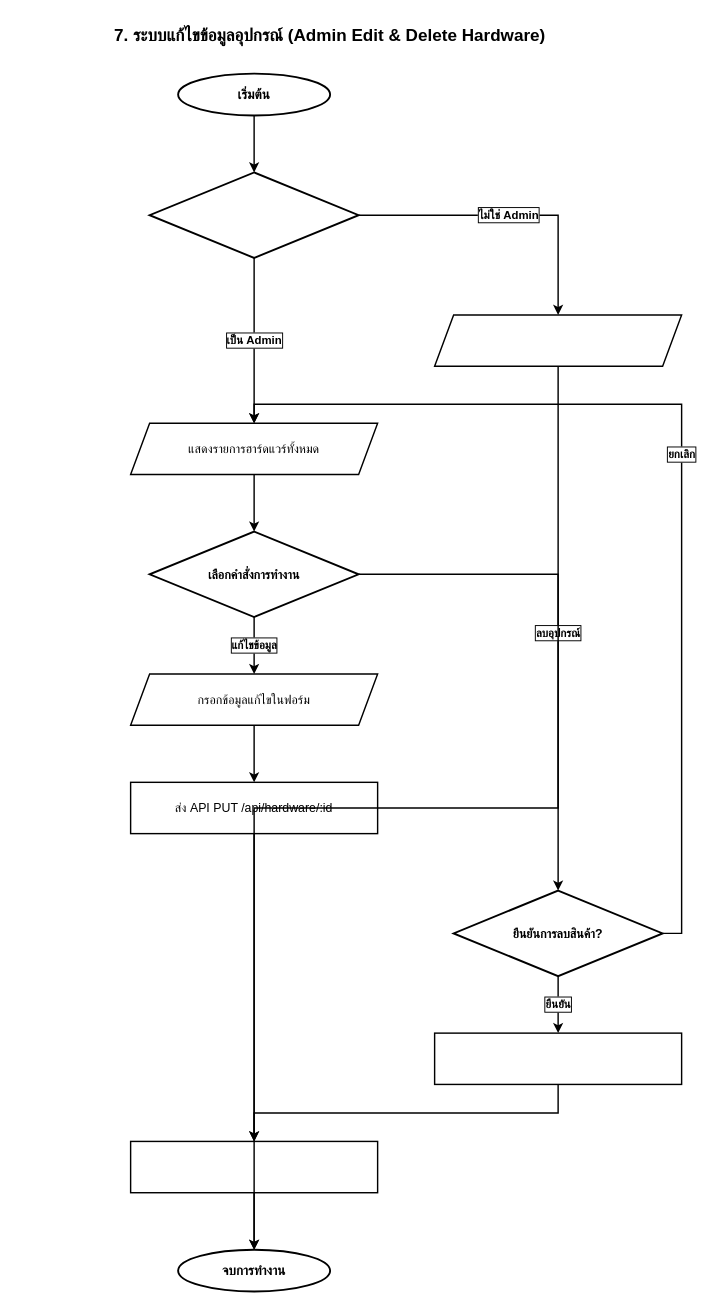
Image size: 712x1308. Some labels were removed from this diagram. Here are the shapes that lost their labels. From the top down, the box of each, then its label:
(148, 171, 359, 258): ตรวจสอบสิทธิ์ Admin
(433, 314, 682, 367): แสดงเตือน: ปฏิเสธการเข้าถึง
(433, 1032, 682, 1085): ส่ง API DELETE /api/hardware/:id
(129, 1140, 378, 1193): อัปเดตตารางสินค้าล่าสุด
